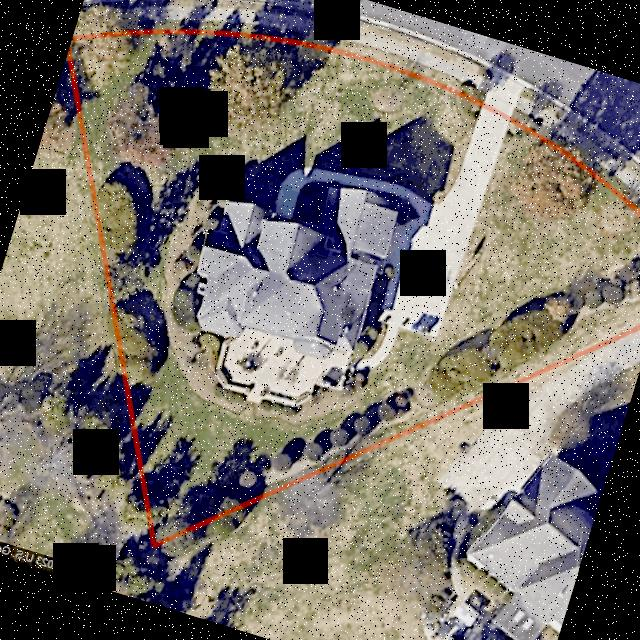Driveway: (358, 108, 509, 369)
Extra Driveway: (482, 72, 522, 116)
Extra Lawn: (337, 35, 480, 98), (76, 15, 336, 46)
House: (187, 181, 409, 362)
